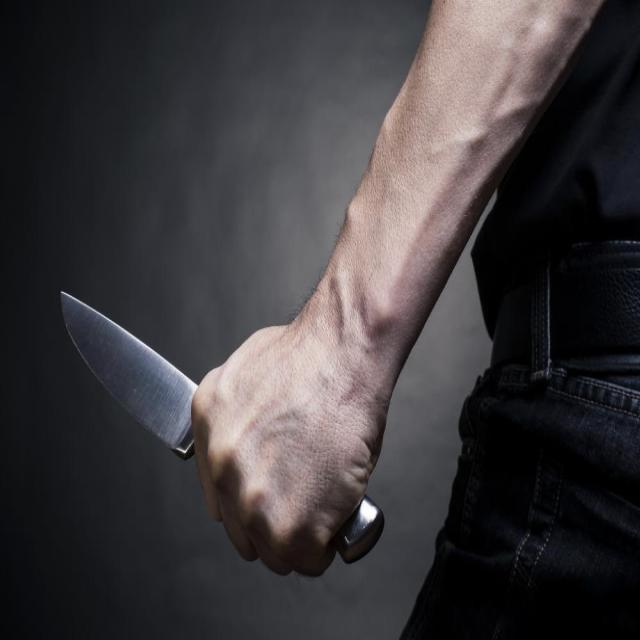knife: (57, 281, 204, 462)
